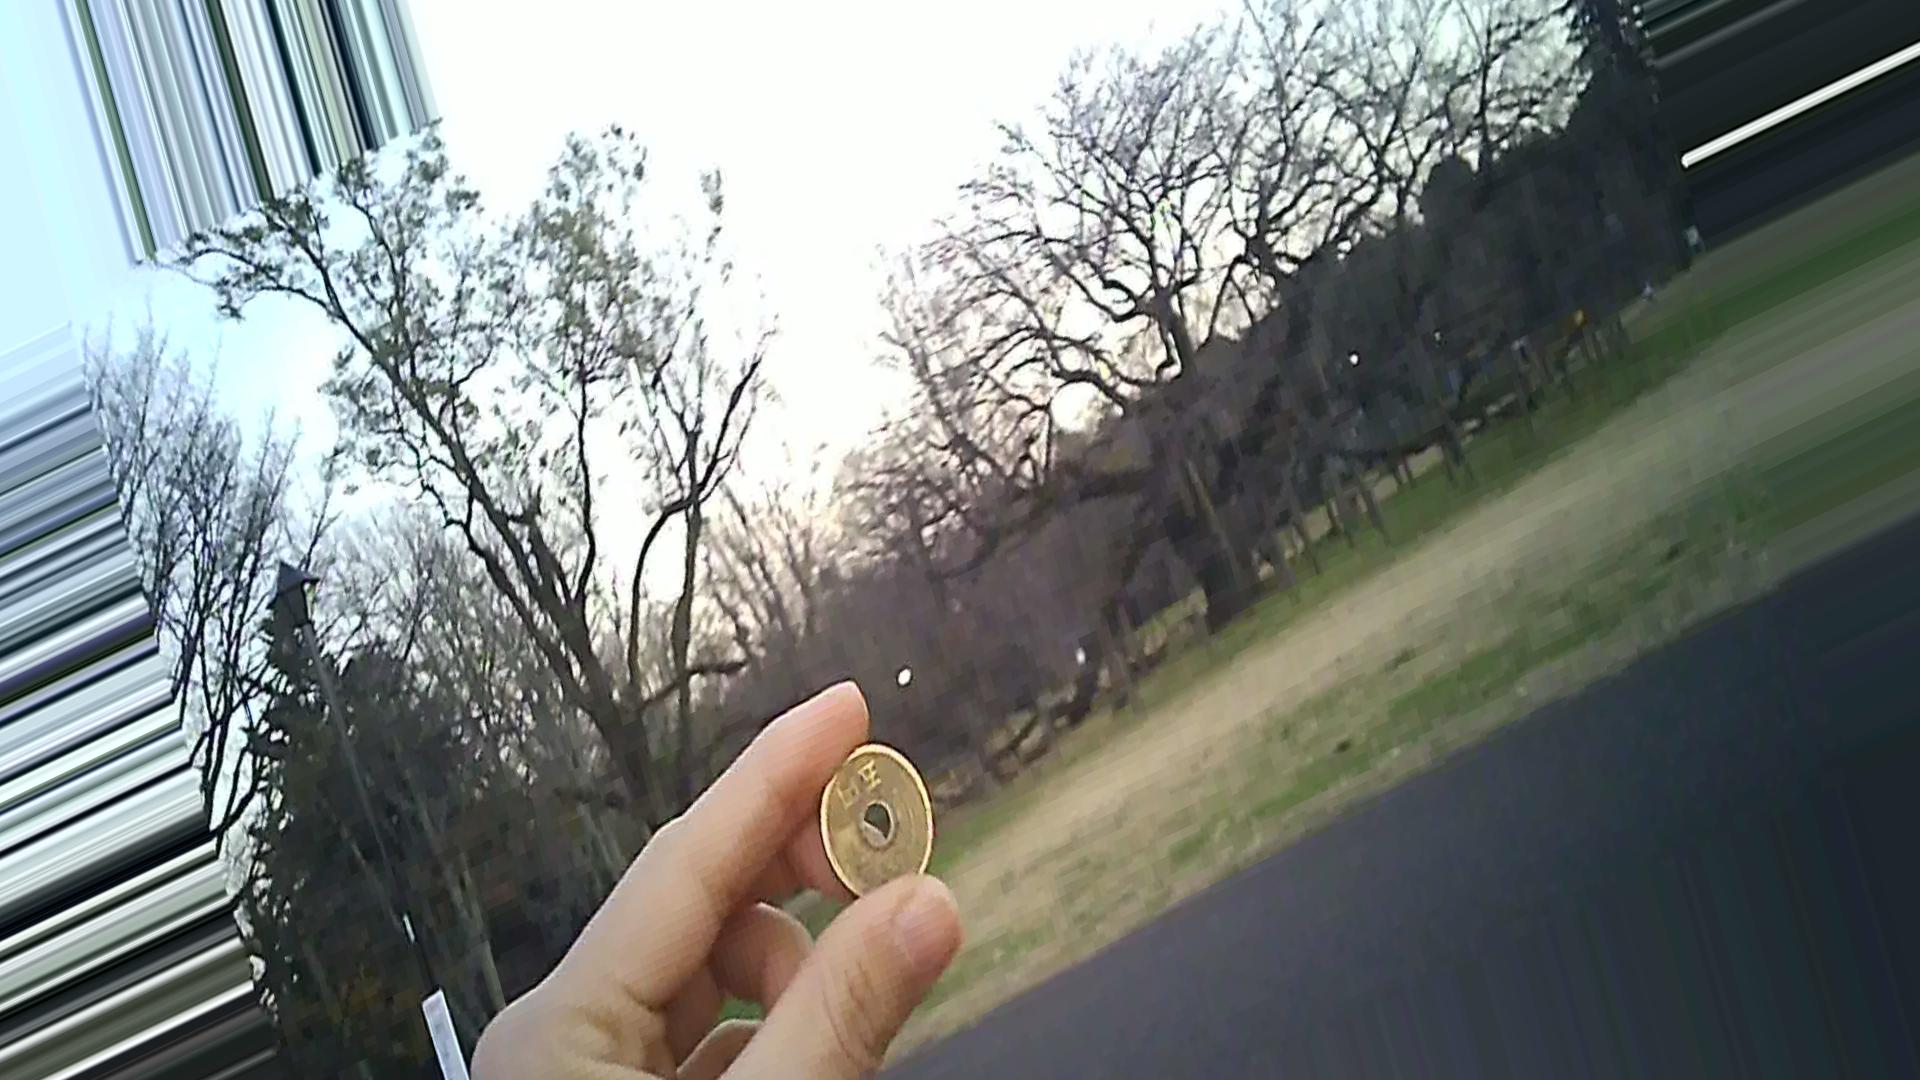5 Yen: (802, 740, 942, 919)
